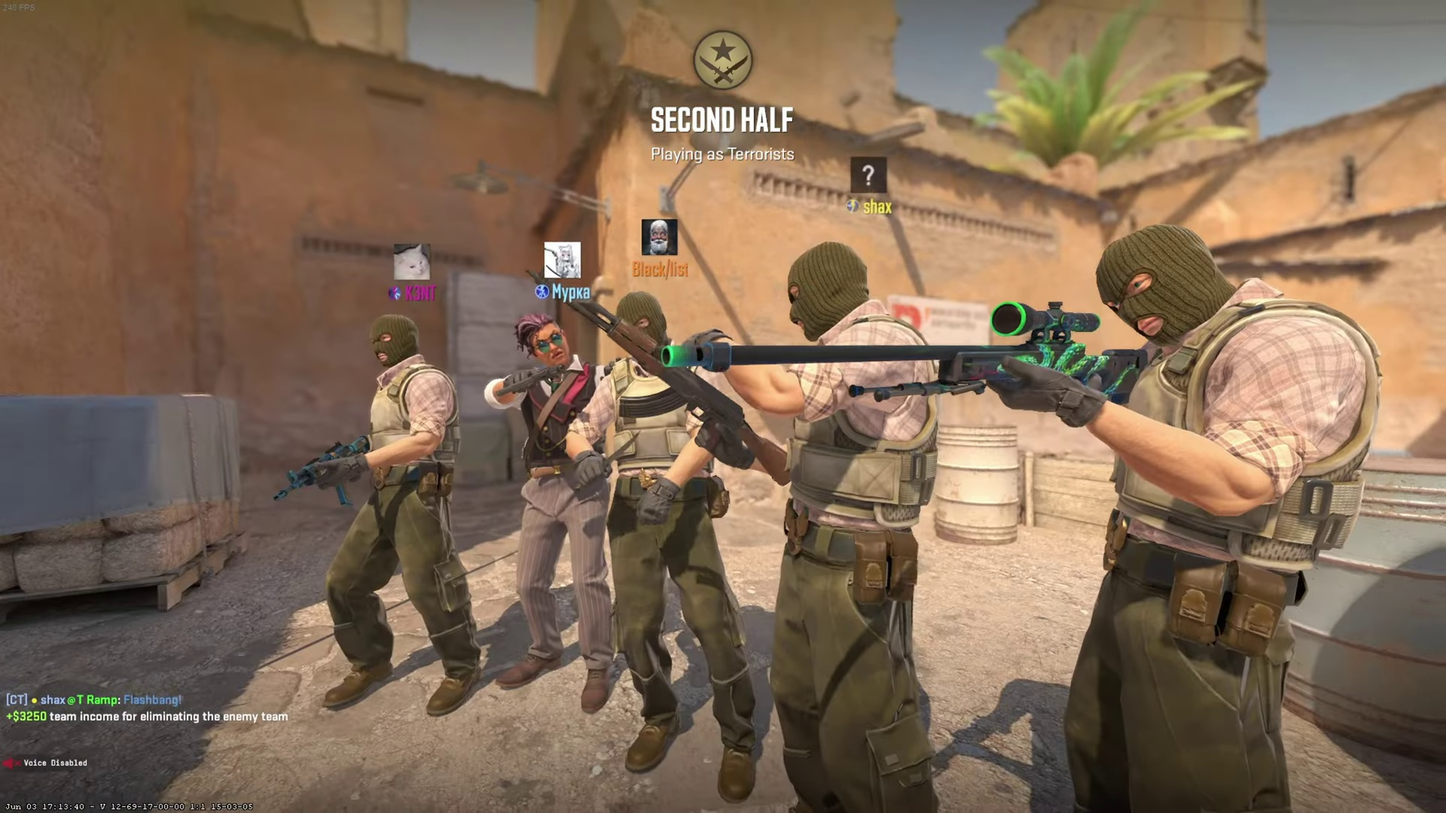Terrorist: (1068, 224, 1378, 811), (777, 244, 932, 808), (604, 296, 748, 801), (320, 314, 467, 714), (498, 314, 595, 702)
